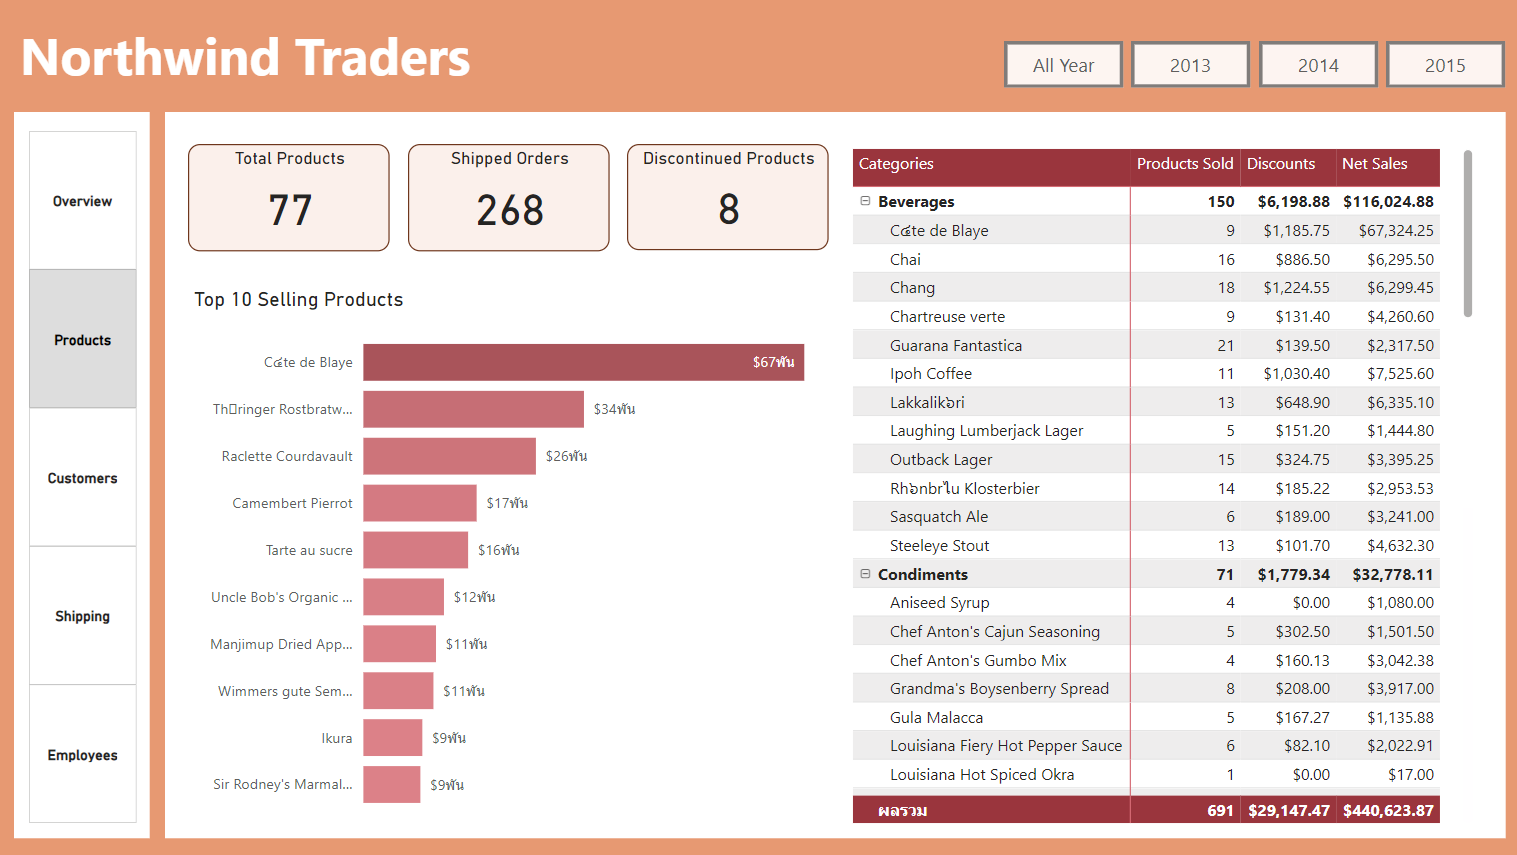

Layout of this report page (visuals, bound fields, positions):
{"tool":"powerbi","page":{"name":"Products","canvas":[1280,720],"ordinal":1},"visuals":[{"type":"textbox","box":[15.1,12.8,676,82.5],"z":0},{"type":"shape","box":[141.2,95,1123.8,608.8],"z":1000},{"type":"shape","box":[15,95,113.8,608.8],"z":2000},{"type":"card","title":"Total Products","fields":{"Values":["CountNonNull(products.productName)"]},"box":[161.2,121.2,168.8,90],"z":3000},{"type":"card","title":"Shipped Orders","fields":{"Values":["_measures.Shipped Orders"]},"box":[345,121.2,168.8,90],"z":4000},{"type":"card","title":"Discontinued Products","fields":{"Values":["_measures.Discontinued Products"]},"box":[528.8,121.2,168.8,88.8],"z":5000},{"type":"barChart","title":"Top 10 Selling Products","fields":{"Y":["_measures.Net Sales"],"Category":["products.productName"]},"box":[161.2,241.2,536.2,453.8],"z":6000},{"type":"pivotTable","fields":{"Rows":["categories.categoryName","products.productName"],"Values":["_measures.Products Sold","_measures.Discounts","_measures.Net Sales"]},"box":[713.2,120.8,529.7,575],"z":7000},{"type":"pageNavigator","box":[27.9,110.3,90.6,584.2],"z":8000},{"type":"actionButton","box":[845,35,100,39.4],"z":9000},{"type":"actionButton","box":[951.4,35,100,39.3],"z":10000},{"type":"actionButton","box":[1058.6,35,100,39.3],"z":11000},{"type":"actionButton","box":[1165,34.8,99.9,39.5],"z":12000}]}

Visuals, with their boxes in screenshot pixels (x1, y1, x2, y2), scaled from the page's 1280x720 canvas onto the 1517x855 screenshot:
textbox: 18 15 819 113
shape: 167 113 1499 836
shape: 18 113 153 836
"Total Products" card: 191 144 391 251
"Shipped Orders" card: 409 144 609 251
"Discontinued Products" card: 627 144 827 249
"Top 10 Selling Products" barChart: 191 286 827 825
pivotTable - categories.categoryName x products.productName: 845 143 1473 826
pageNavigator: 33 131 140 825
actionButton: 1001 42 1120 88
actionButton: 1128 42 1246 88
actionButton: 1255 42 1373 88
actionButton: 1381 41 1499 88
